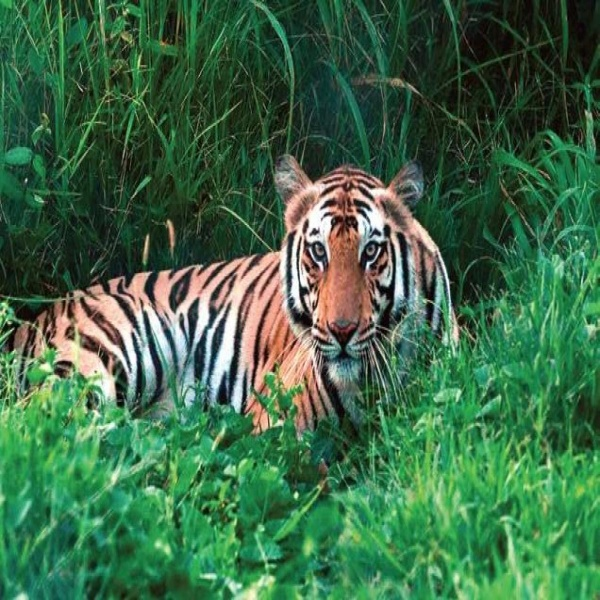Tiger: (17, 149, 468, 460)
